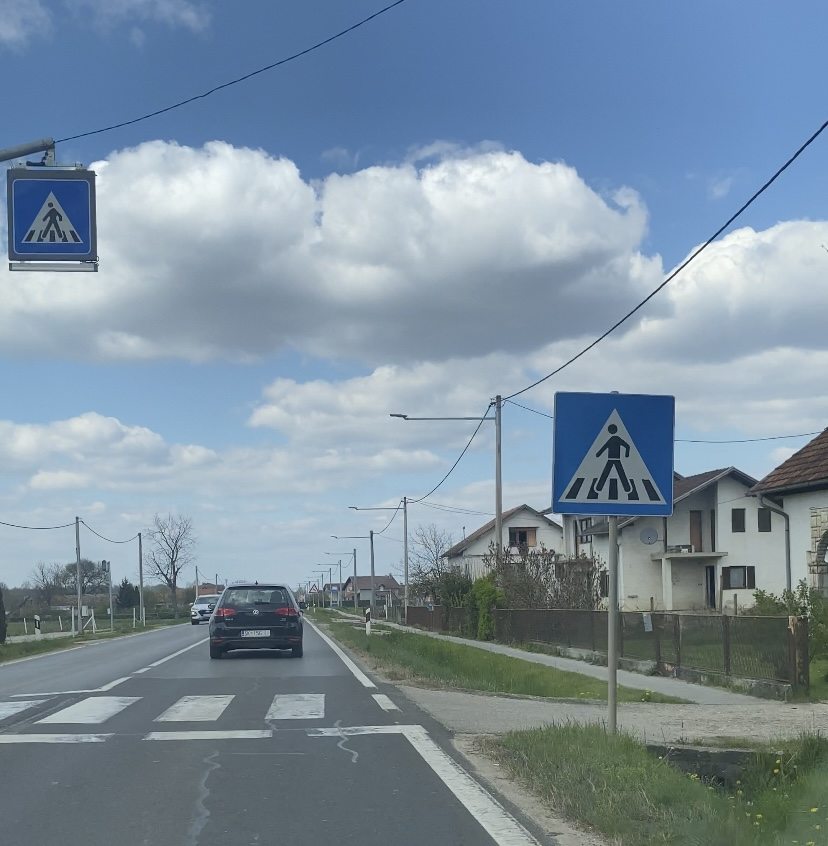Pješački prijelaz: (552, 392, 673, 517), (12, 179, 92, 254)
